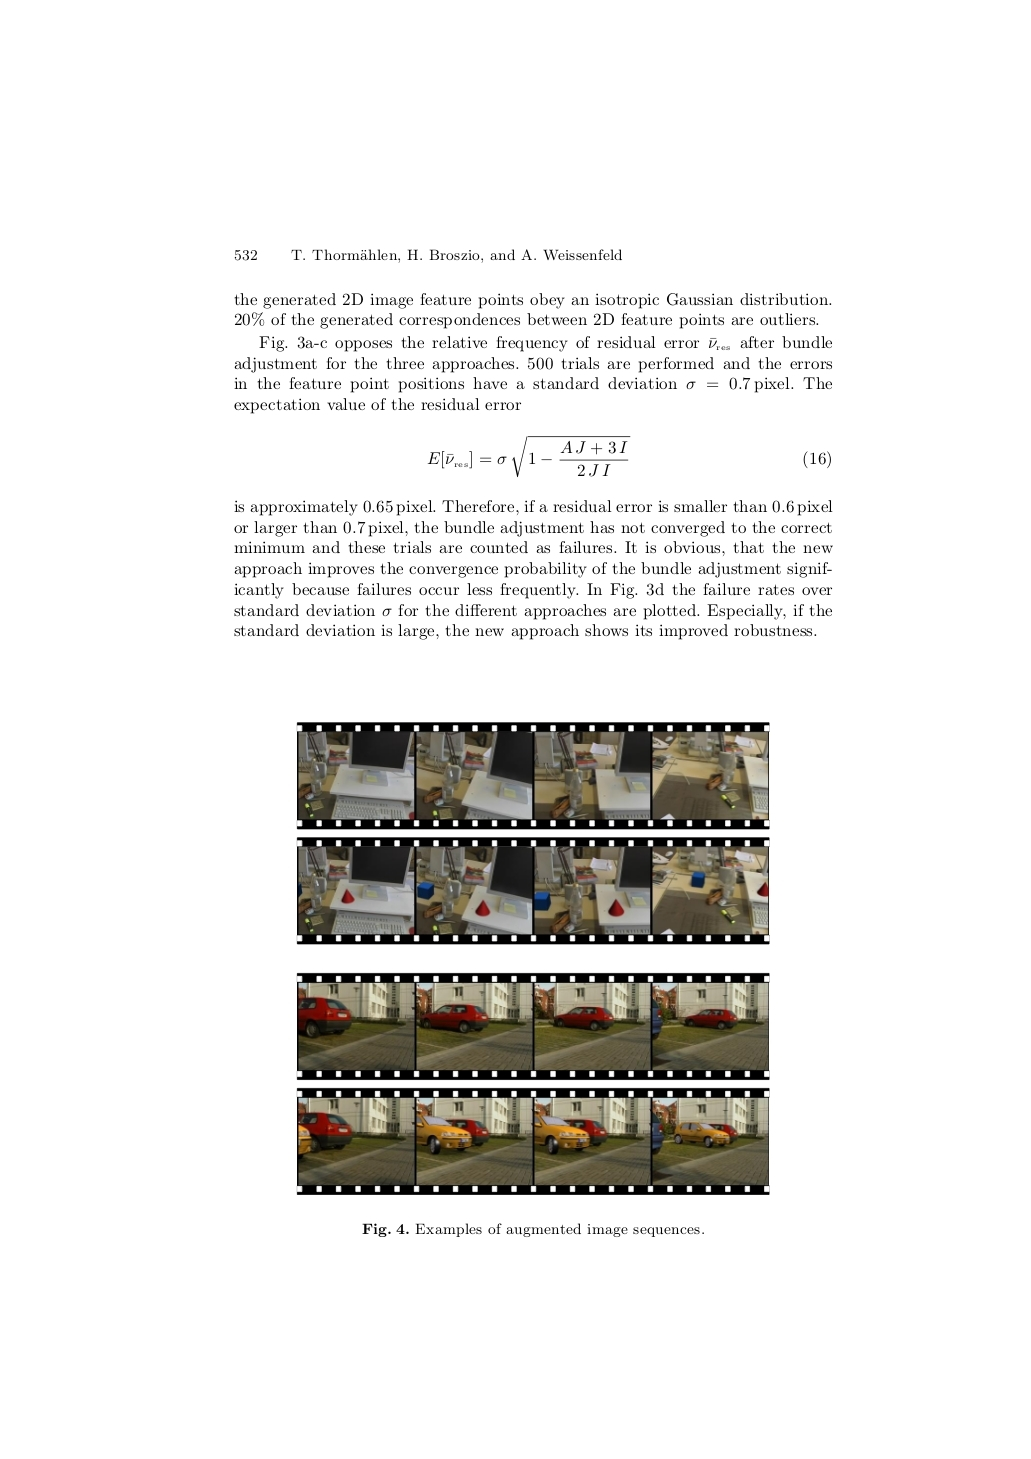figure: (296, 721, 769, 830), (296, 835, 769, 945), (296, 972, 769, 1080), (296, 1086, 769, 1195)
formula: (427, 435, 830, 477)
